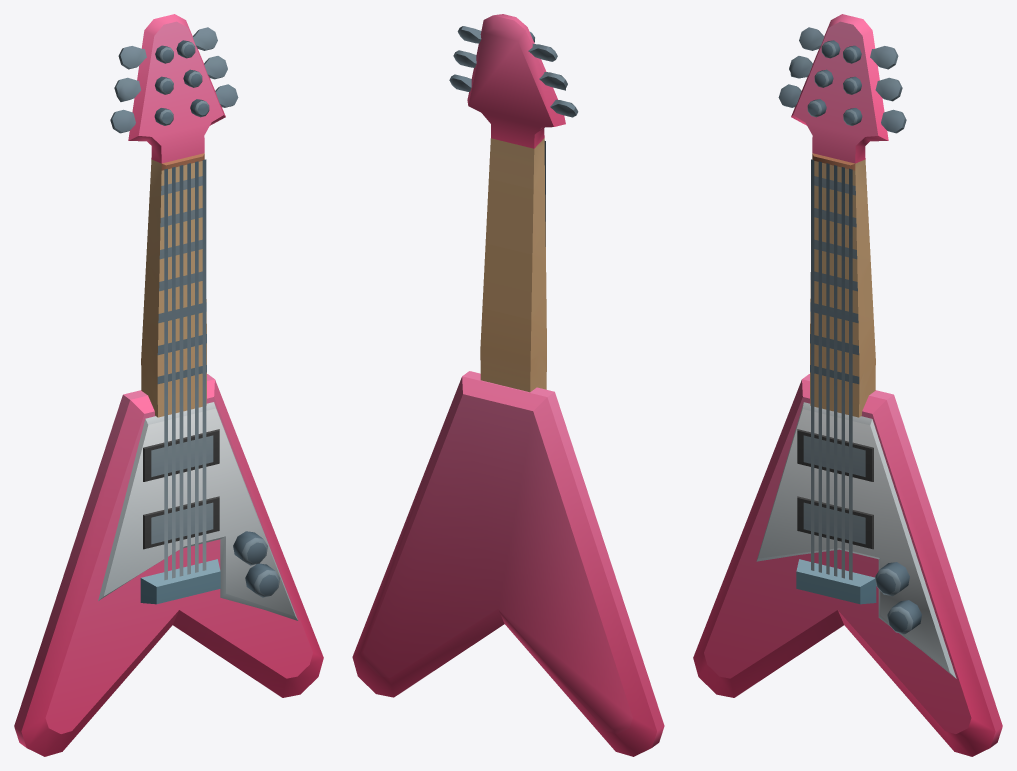
The model's file is guitar_B.fbx.
The picture shows the model from 3 angles, left to right: view 1: azimuth 30°, elevation 25°; view 2: azimuth 150°, elevation 25°; view 3: azimuth 330°, elevation 25°; orthographic projection.
Visible parts, largest first — view 1: guitar_B; view 2: guitar_B; view 3: guitar_B.
Part boxes in pixels (x1,y1,x2,y2): guitar_B: (14,14,323,756); guitar_B: (352,14,664,756); guitar_B: (693,14,1002,756).
Bounding box in the file's own units: 84.77 × 188 × 17.04.
